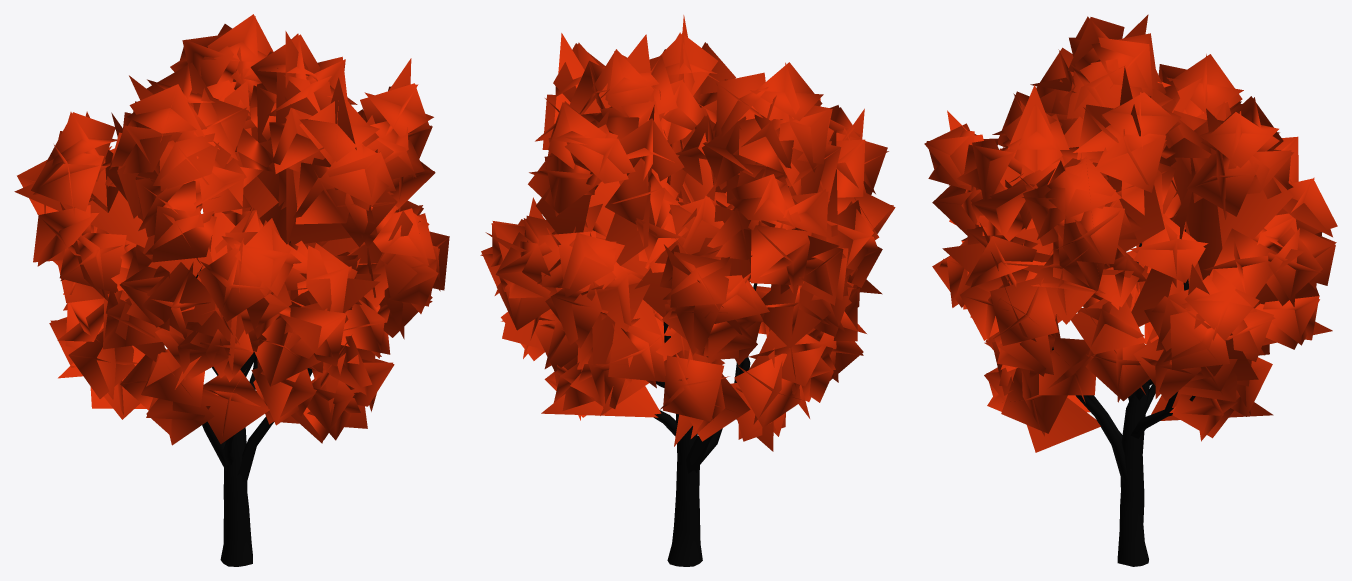
Rendered from G_BeechTree_002_S1.fbx.
The picture shows the model from 3 angles, left to right: view 1: azimuth 30°, elevation 25°; view 2: azimuth 150°, elevation 25°; view 3: azimuth 270°, elevation 25°; orthographic projection.
Visible parts, largest first — view 1: G_BeechTree_002_S1_P01_LOD0; view 2: G_BeechTree_002_S1_P01_LOD0; view 3: G_BeechTree_002_S1_P01_LOD0.
Part boxes in pixels (left/top/right/bottom): G_BeechTree_002_S1_P01_LOD0: left=14, top=14, right=449, bottom=566; G_BeechTree_002_S1_P01_LOD0: left=480, top=15, right=895, bottom=566; G_BeechTree_002_S1_P01_LOD0: left=924, top=14, right=1337, bottom=566.
Size of the model in its own units: 371 by 512 by 373.
